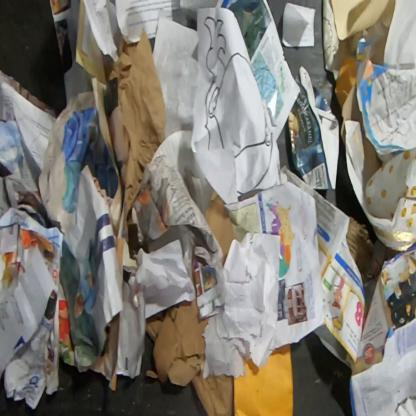cardboard: (144, 275, 234, 415), (288, 64, 340, 190), (346, 215, 402, 285), (203, 188, 238, 270), (340, 83, 364, 148)
